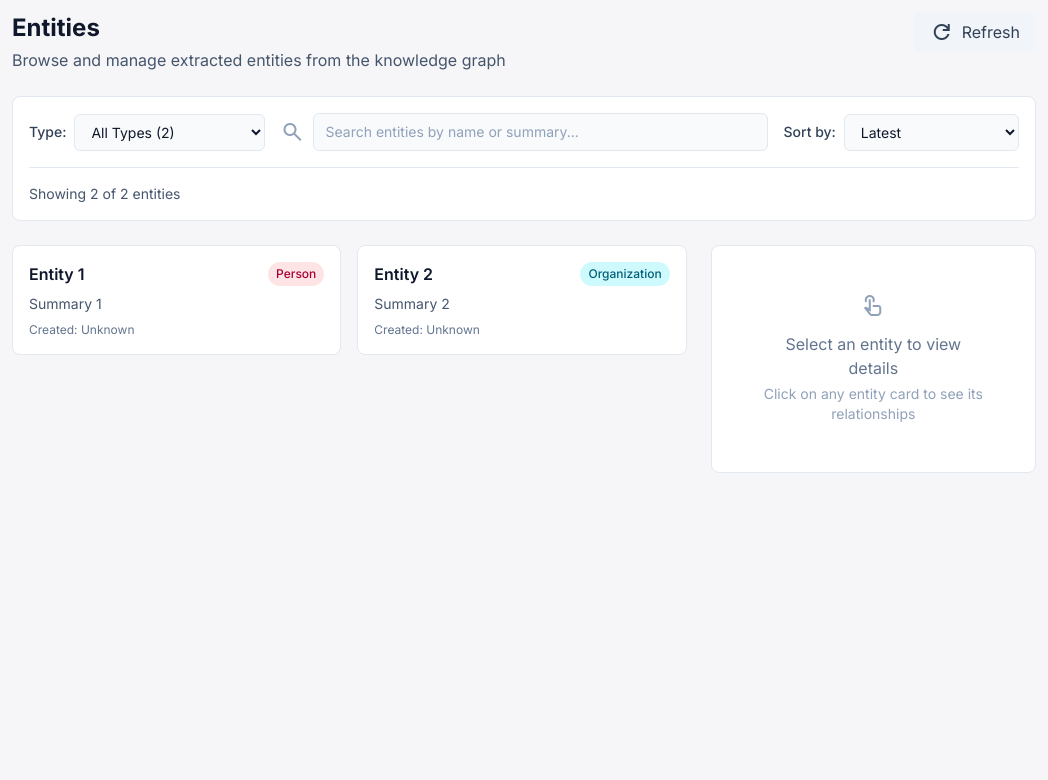
Test: EntitiesList › shows entity details on click
Click the heading "Entity 1".
click(57, 274)  # box [29, 264, 84, 284]
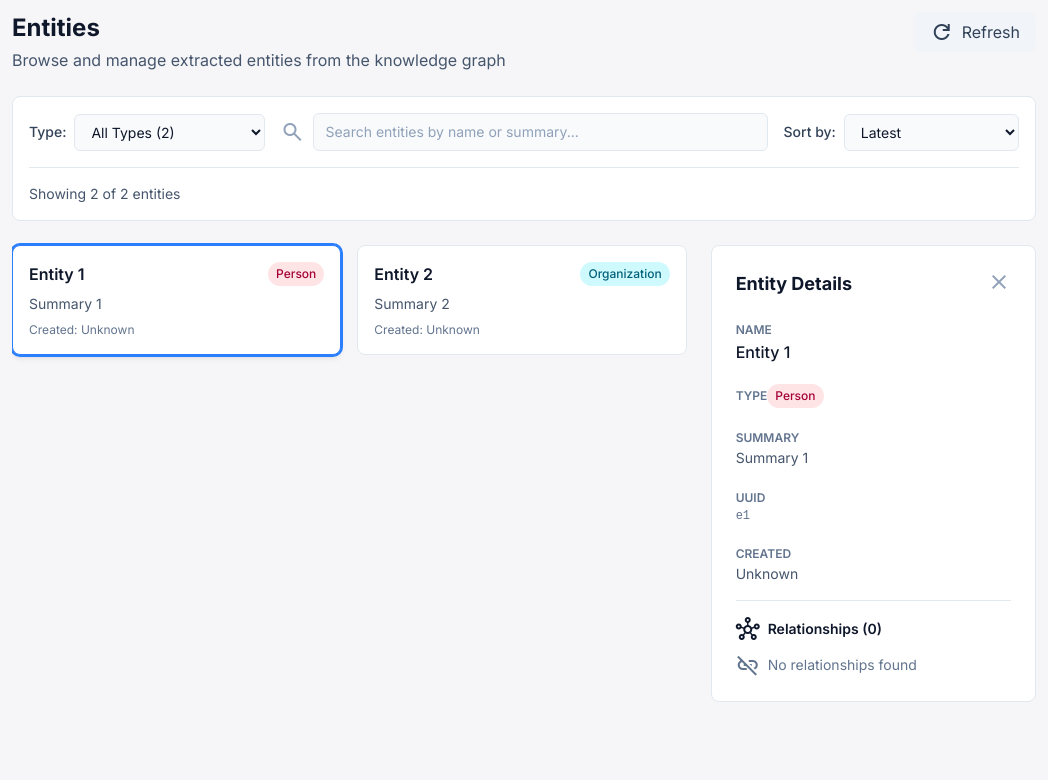
Expected: the heading "Entity Details" is shown, [736, 270, 852, 298]
